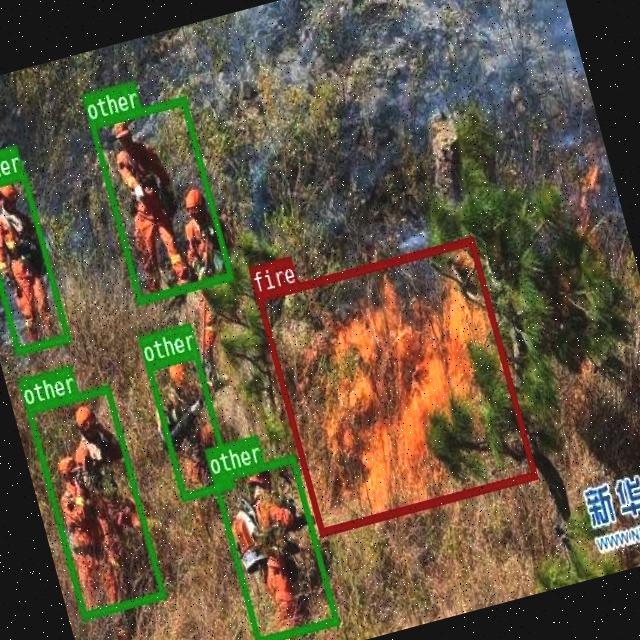fire: (255, 236, 536, 535)
